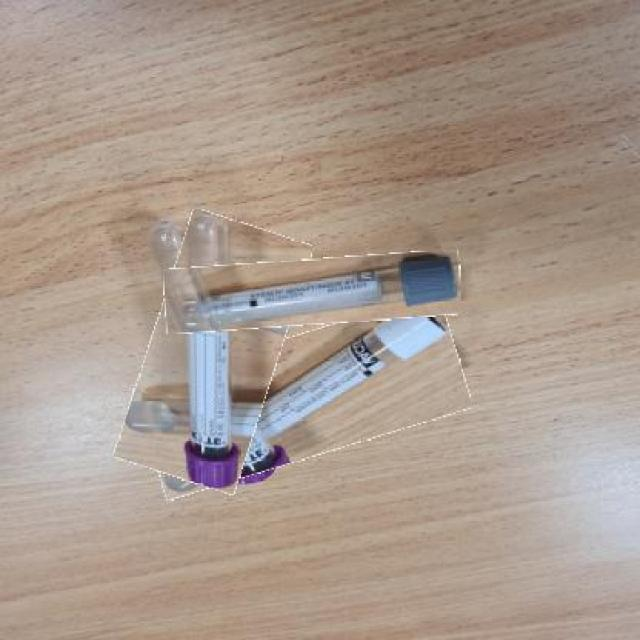Experimental-tube: (138, 313, 468, 478), (132, 214, 296, 488), (164, 254, 461, 328)
